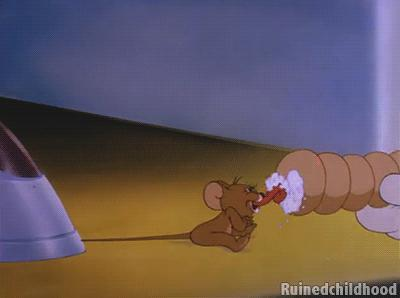jerry: (80, 175, 287, 253)
